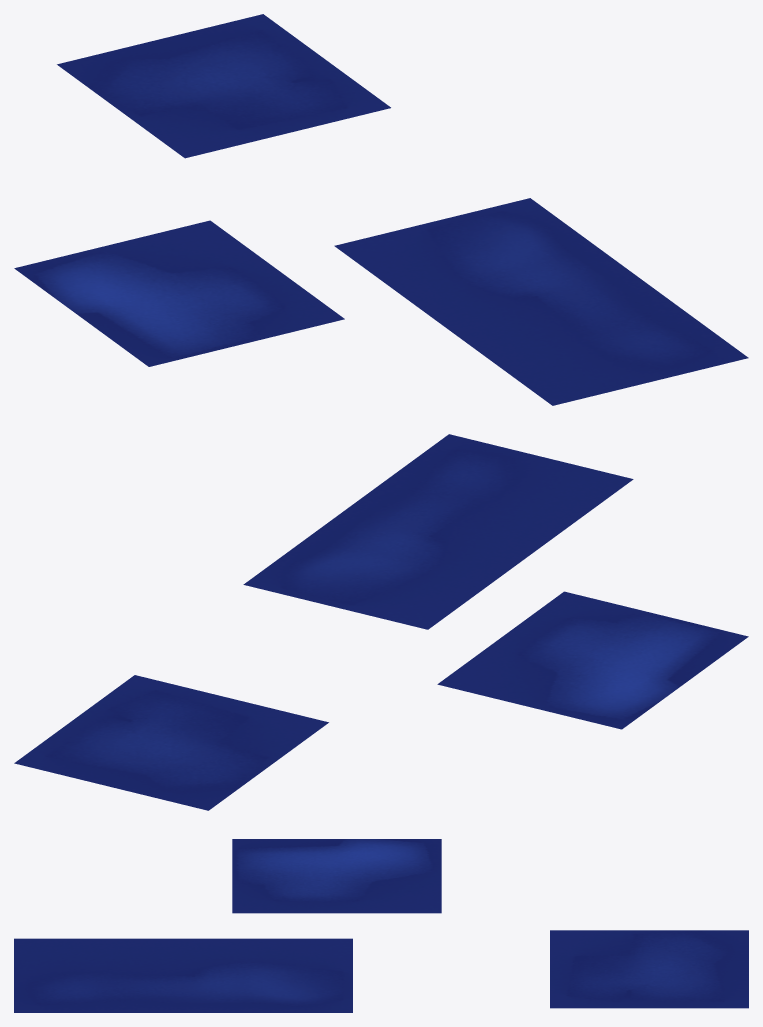
The model's file is Water_01.FBX.
3 renders of one model, top to bottom at view 1: azimuth 30°, elevation 25°; view 2: azimuth 150°, elevation 25°; view 3: azimuth 270°, elevation 25°, orthographic. The views are drawn at different scales.
Parts seen in each view (by area): view 1: Water_01; view 2: Water_01; view 3: Water_01.
Boxes of the visible parts, x1=… form: Water_01: x1=14, y1=14, x2=748, y2=405; Water_01: x1=14, y1=434, x2=748, y2=810; Water_01: x1=14, y1=839, x2=748, y2=1012.
Size of the model in its own units: 10.92 by 1.22e-15 by 19.51.
